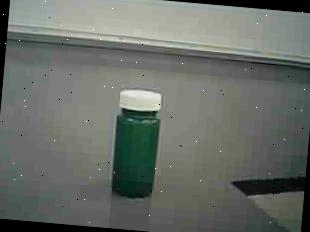Bottle C: (98, 80, 178, 208)
